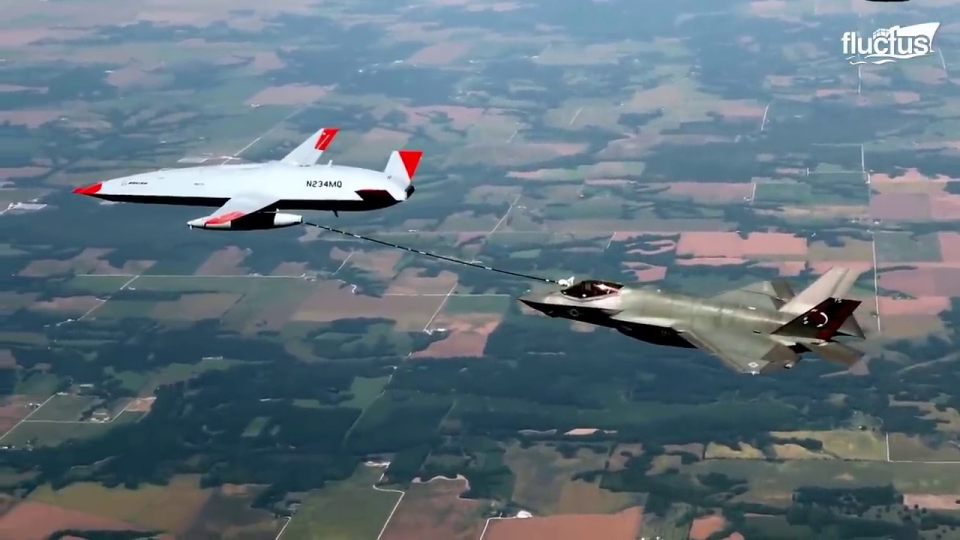airplane: (516, 266, 867, 375)
military drone: (70, 127, 423, 230)
